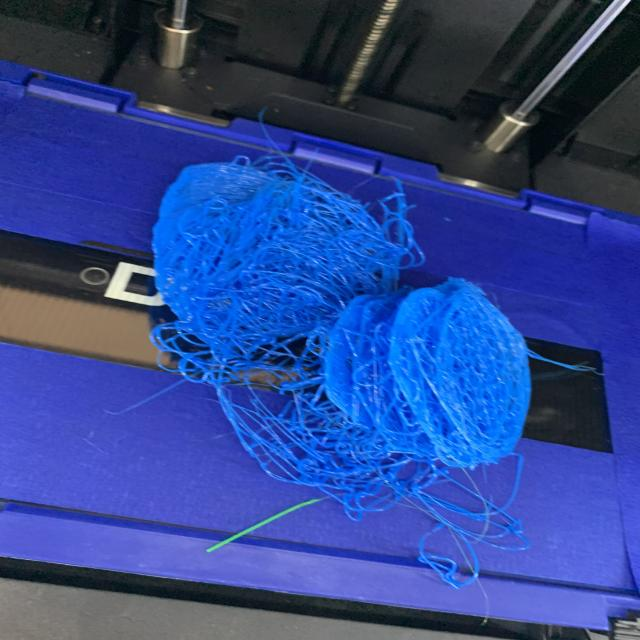spaghetti: (123, 125, 615, 597)
